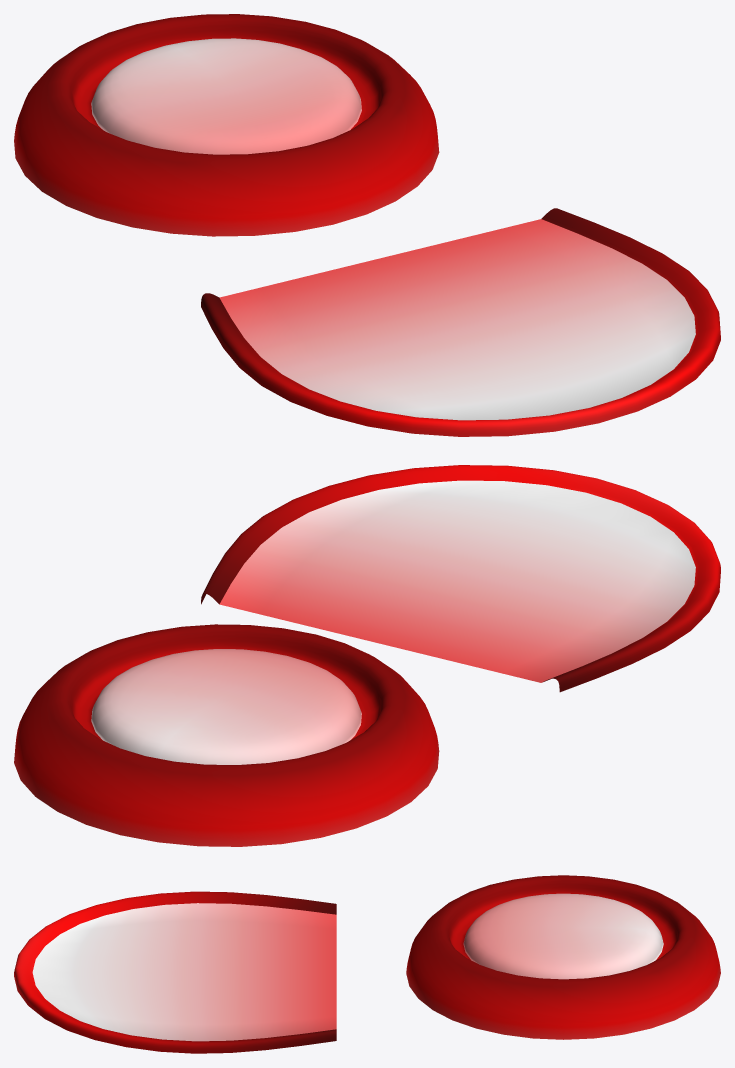
File: boton.fbx
3 renders of one model, top to bottom at view 1: azimuth 30°, elevation 25°; view 2: azimuth 150°, elevation 25°; view 3: azimuth 270°, elevation 25°, orthographic. The views are drawn at different scales.
Visible parts, largest first — view 1: Cube.001, Cube; view 2: Cube.001, Cube; view 3: Cube.001, Cube.
Part boxes in pixels (x1=…): Cube.001: x1=201, y1=208, x2=720, y2=436; Cube: x1=14, y1=14, x2=439, y2=236; Cube.001: x1=201, y1=465, x2=720, y2=692; Cube: x1=14, y1=624, x2=439, y2=846; Cube.001: x1=14, y1=891, x2=336, y2=1053; Cube: x1=406, y1=875, x2=720, y2=1039.
Size of what is drawn, in the model's own units: 253 by 37.85 by 489.
